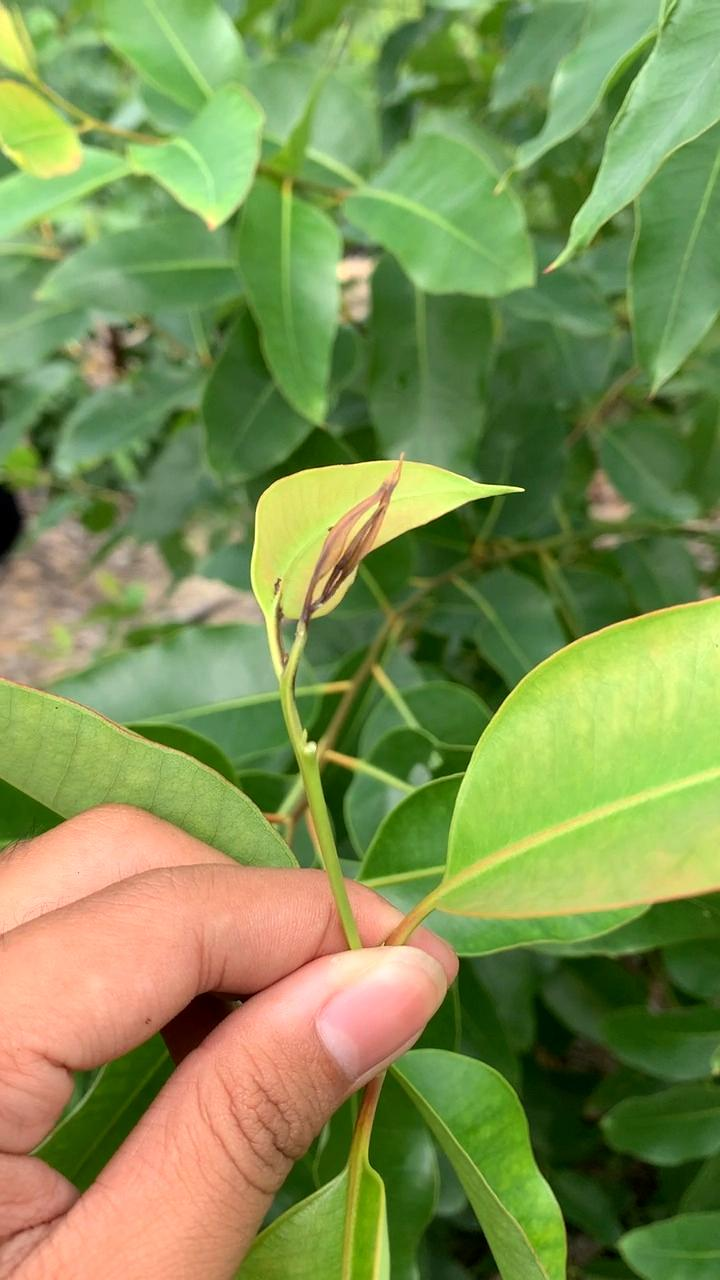Helopeltis-Withered Sprout: (300, 463, 399, 610)
